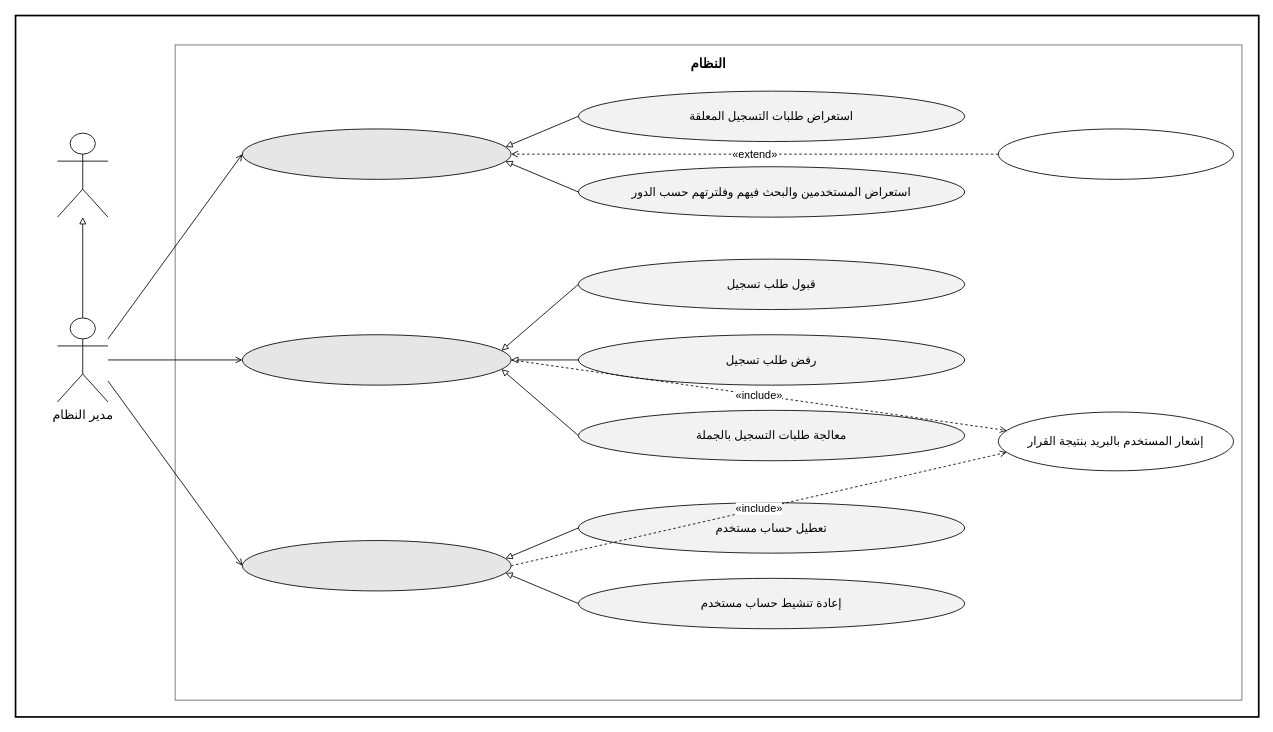
The diagram is 1273 pixels wide and 732 high, and some of its shapes have lost their labels. The shapes that lost their labels are listed below. From the top down, each one's centre as x and y in pixels, then its label:
At point (376, 153): "استعراض المستخدمين وطلبات التسجيل".
At point (1116, 153): "عرض تفاصيل مستخدم".
At point (82, 174): "مستخدم مصرّح له".
At point (376, 359): "معالجة طلبات التسجيل".
At point (376, 565): "إدارة حالة حساب مستخدم".
